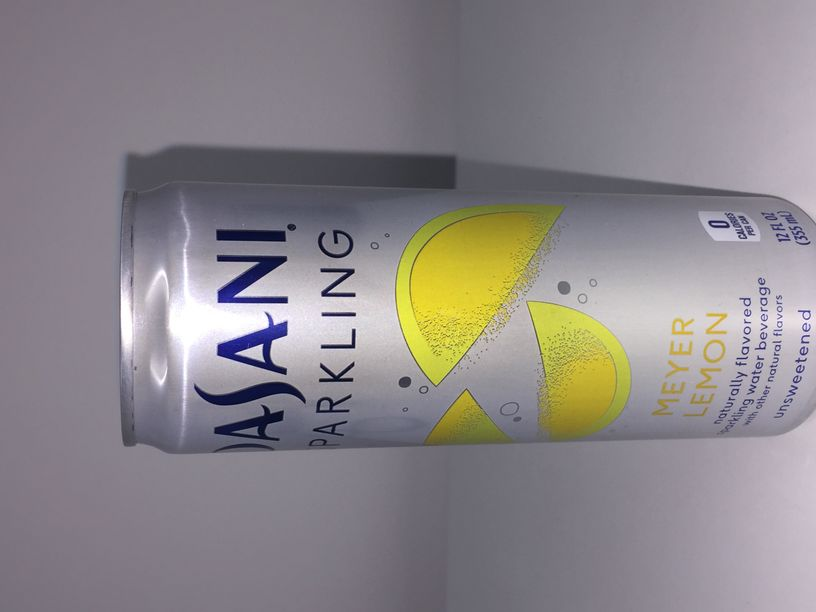lemon: (120, 181, 816, 457)
